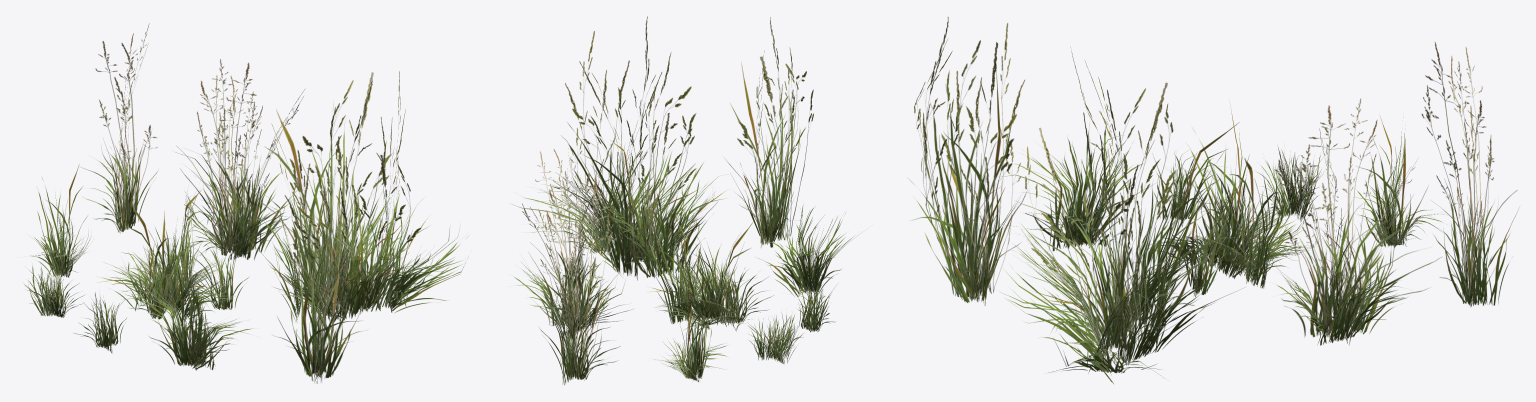
The model's file is real_bush.glb.
The picture shows the model from 3 angles, left to right: view 1: azimuth 30°, elevation 25°; view 2: azimuth 150°, elevation 25°; view 3: azimuth 270°, elevation 25°; orthographic projection. The views are drawn at different scales.
Visible parts, largest first — view 1: tall_bush_1, tall_bush_3, Medium_bush_1, tall_bush_2, tall_bush_4, Medium_bush_2, Medium_bush_3, Small_bush_1, Small_bush_2; view 2: tall_bush_1, tall_bush_2, tall_bush_3, Medium_bush_1, tall_bush_4, Medium_bush_2, Medium_bush_3, Small_bush_1, Small_bush_2; view 3: tall_bush_1, tall_bush_2, tall_bush_3, Medium_bush_1, tall_bush_4, Medium_bush_2, Medium_bush_3, Small_bush_1, Small_bush_2.
Boxes of the visible parts, left/top/right/bottom form: tall_bush_1: left=250, top=71, right=470, bottom=322; tall_bush_3: left=175, top=59, right=305, bottom=260; Medium_bush_1: left=96, top=189, right=249, bottom=324; tall_bush_2: left=273, top=150, right=368, bottom=383; tall_bush_4: left=79, top=23, right=158, bottom=233; Medium_bush_2: left=132, top=262, right=255, bottom=370; Medium_bush_3: left=27, top=164, right=90, bottom=277; Small_bush_1: left=24, top=259, right=85, bottom=317; Small_bush_2: left=74, top=292, right=126, bottom=353; tall_bush_1: left=510, top=16, right=732, bottom=280; tall_bush_2: left=725, top=17, right=813, bottom=247; tall_bush_3: left=509, top=148, right=632, bottom=335; Medium_bush_1: left=645, top=219, right=773, bottom=334; tall_bush_4: left=535, top=176, right=620, bottom=385; Medium_bush_2: left=754, top=204, right=870, bottom=297; Medium_bush_3: left=653, top=269, right=729, bottom=381; Small_bush_1: left=748, top=312, right=803, bottom=364; Small_bush_2: left=795, top=278, right=836, bottom=332; tall_bush_1: left=998, top=47, right=1242, bottom=384; tall_bush_2: left=907, top=16, right=1026, bottom=305; tall_bush_3: left=1273, top=98, right=1442, bottom=345; Medium_bush_1: left=1145, top=101, right=1313, bottom=297; tall_bush_4: left=1421, top=41, right=1519, bottom=307; Medium_bush_2: left=998, top=122, right=1157, bottom=251; Medium_bush_3: left=1355, top=114, right=1447, bottom=247; Small_bush_1: left=1255, top=145, right=1323, bottom=223; Small_bush_2: left=1152, top=152, right=1219, bottom=226.
Size of the model in its own units: 224 by 145 by 256.
Materials: 1 (1 with a texture image).
